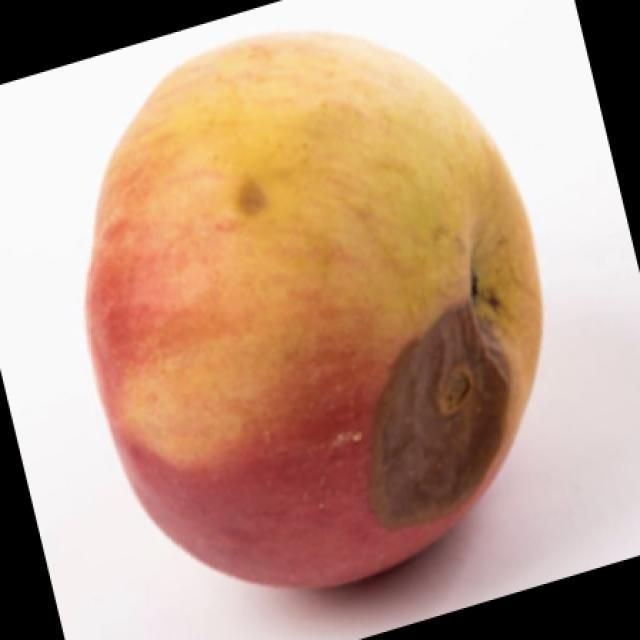Rotten: (105, 25, 538, 573)
